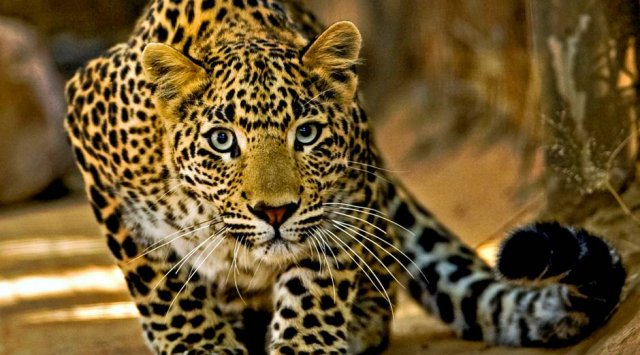amur_leopard: (50, 3, 610, 349)
